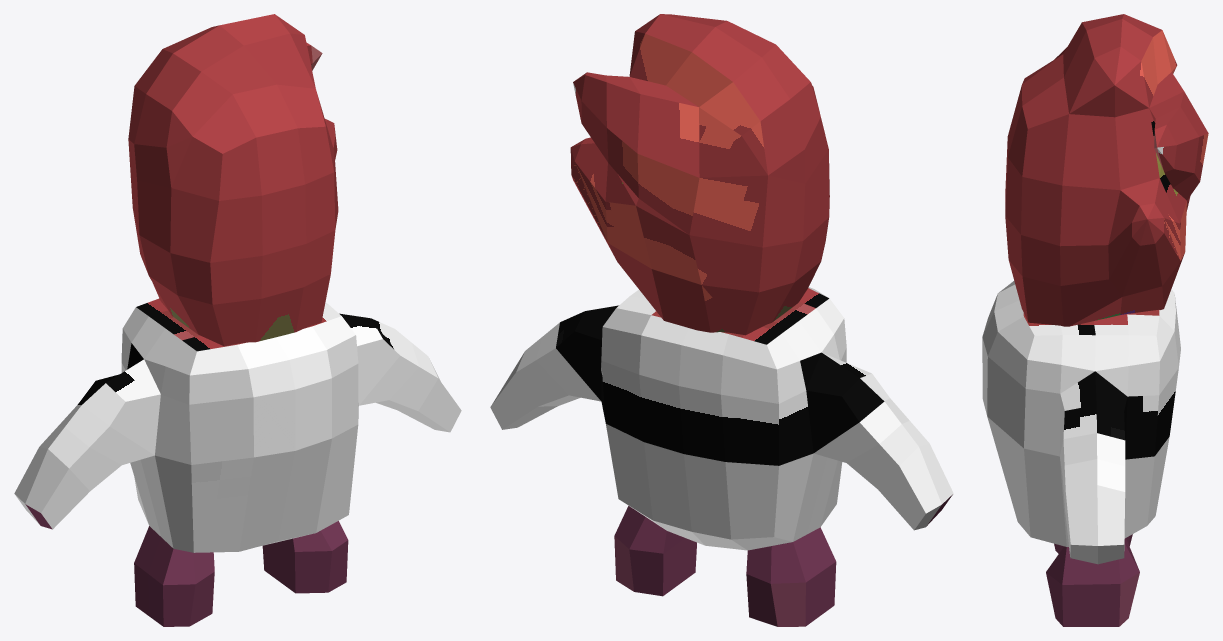
The model's file is character_1.fbx.
The picture shows the model from 3 angles, left to right: view 1: azimuth 30°, elevation 25°; view 2: azimuth 150°, elevation 25°; view 3: azimuth 270°, elevation 25°; orthographic projection. The views are drawn at different scales.
Parts seen in each view (by area): view 1: character; view 2: character; view 3: character.
Boxes of the visible parts, left/top/right/bottom form: character: left=14, top=14, right=461, bottom=626; character: left=490, top=14, right=953, bottom=626; character: left=982, top=14, right=1208, bottom=626.
Bounding box in the file's own units: 54.17 × 68.34 × 24.9.
